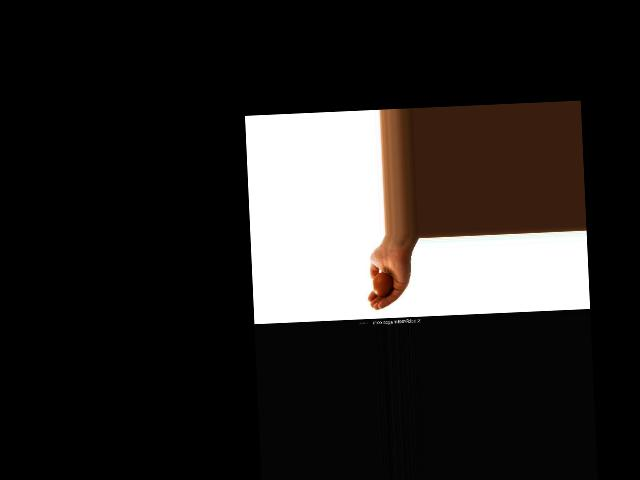egg: (372, 272, 393, 298)
